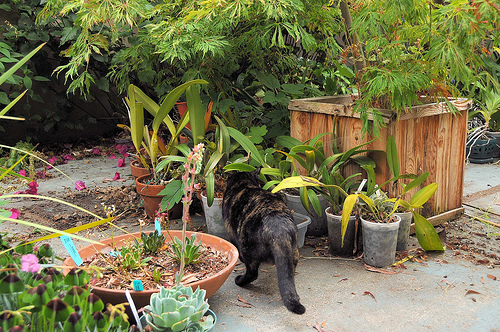flowerpot: (360, 214, 399, 272), (134, 175, 178, 224), (326, 207, 364, 258), (177, 99, 216, 137)
